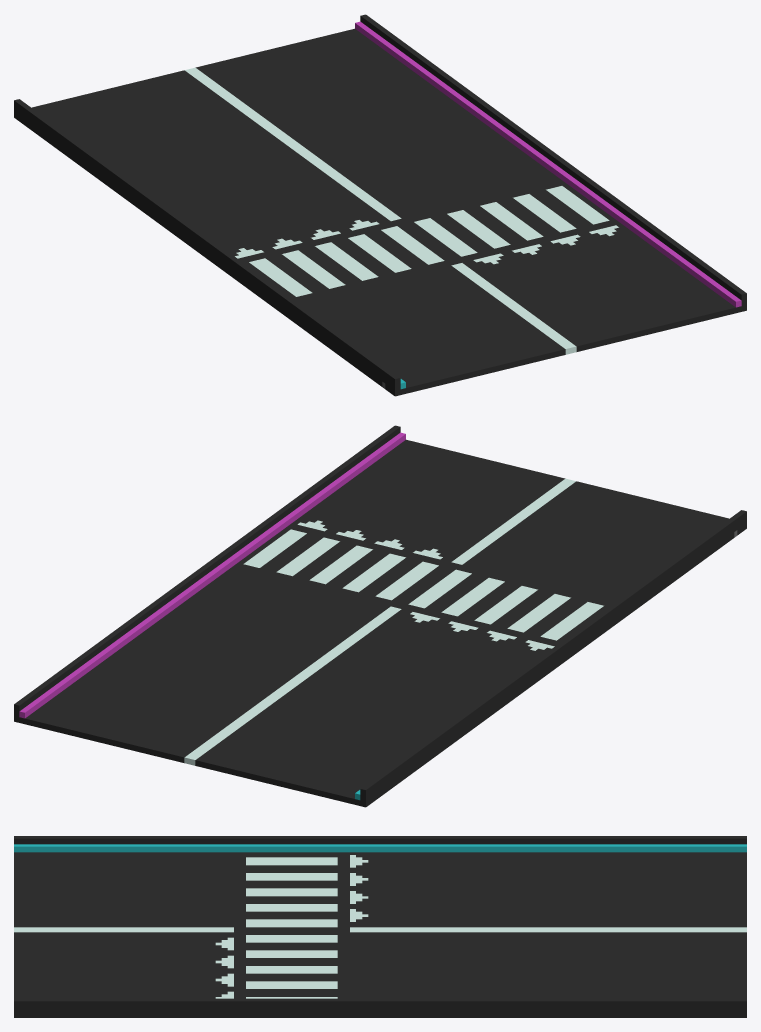
The model's file is SM_Road_3.fbx.
3 views of the same model, one above another, from view 1: azimuth 30°, elevation 25°; view 2: azimuth 150°, elevation 25°; view 3: azimuth 270°, elevation 25° (orthographic). The views are drawn at different scales.
Parts seen in each view (by area): view 1: Road_3; view 2: Road_3; view 3: Road_3.
Part boxes in pixels (bbox=[...]): Road_3: bbox=[14, 14, 746, 396]; Road_3: bbox=[14, 425, 746, 807]; Road_3: bbox=[14, 836, 746, 1017].
Bounding box in the file's own units: 1280 × 60 × 2400.
3 materials, 1 textured.
